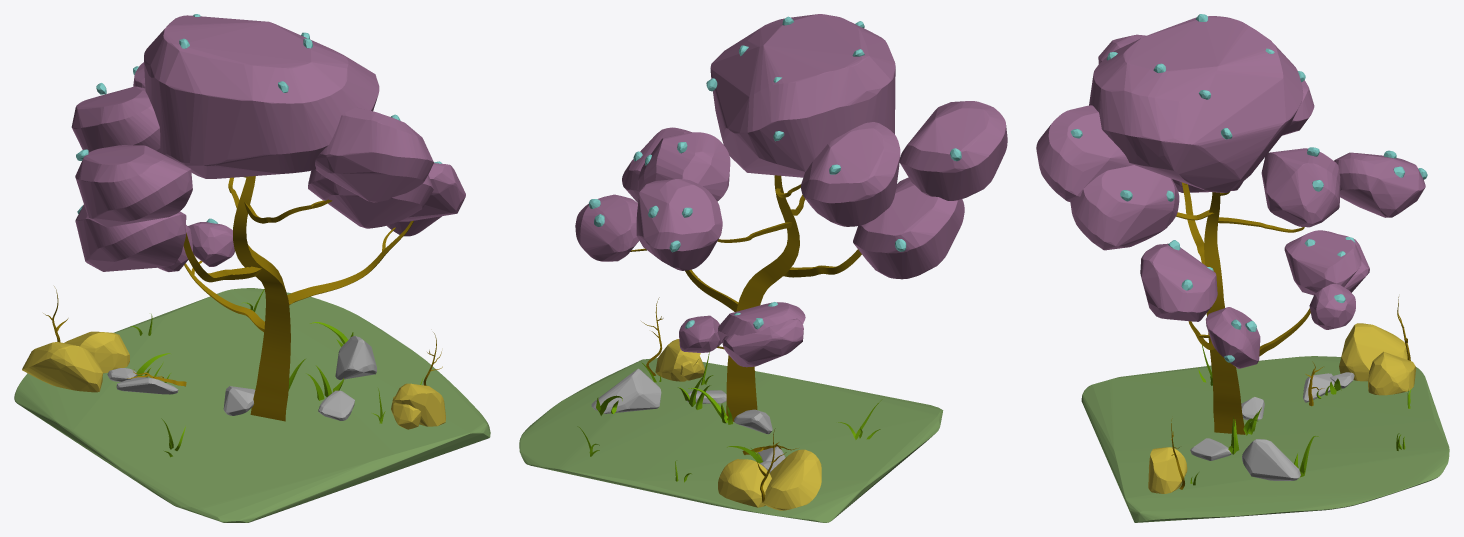
The model's file is big-bonsai.gltf.
3 views of the same model, side by side, from view 1: azimuth 30°, elevation 25°; view 2: azimuth 150°, elevation 25°; view 3: azimuth 270°, elevation 25° (orthographic). The views are drawn at different scales.
Visible parts, largest first — view 1: brush_MatteHull_g0_b0_0, brush_MatteHull_g1_b0_6, brush_Spikes_g1_b0_5, brush_Spikes_g0_b0_3; view 2: brush_MatteHull_g1_b0_6, brush_MatteHull_g0_b0_0, brush_Spikes_g1_b0_5, brush_Spikes_g0_b0_3; view 3: brush_MatteHull_g1_b0_6, brush_MatteHull_g0_b0_0, brush_Spikes_g1_b0_5, brush_Spikes_g0_b0_3.
Boxes of the visible parts, box(x1,y1,x2,y2) form: brush_MatteHull_g0_b0_0: box(14, 14, 490, 522); brush_MatteHull_g1_b0_6: box(71, 15, 465, 271); brush_Spikes_g1_b0_5: box(183, 176, 413, 421); brush_Spikes_g0_b0_3: box(43, 286, 442, 457); brush_MatteHull_g1_b0_6: box(575, 14, 1007, 367); brush_MatteHull_g0_b0_0: box(519, 16, 961, 522); brush_Spikes_g1_b0_5: box(630, 175, 861, 421); brush_Spikes_g0_b0_3: box(577, 297, 882, 502); brush_MatteHull_g1_b0_6: box(1036, 16, 1425, 368); brush_MatteHull_g0_b0_0: box(1070, 14, 1449, 522); brush_Spikes_g1_b0_5: box(1176, 182, 1310, 434); brush_Spikes_g0_b0_3: box(1171, 297, 1411, 489).
Size of the model in its own units: 5.62 by 5.75 by 5.5.
